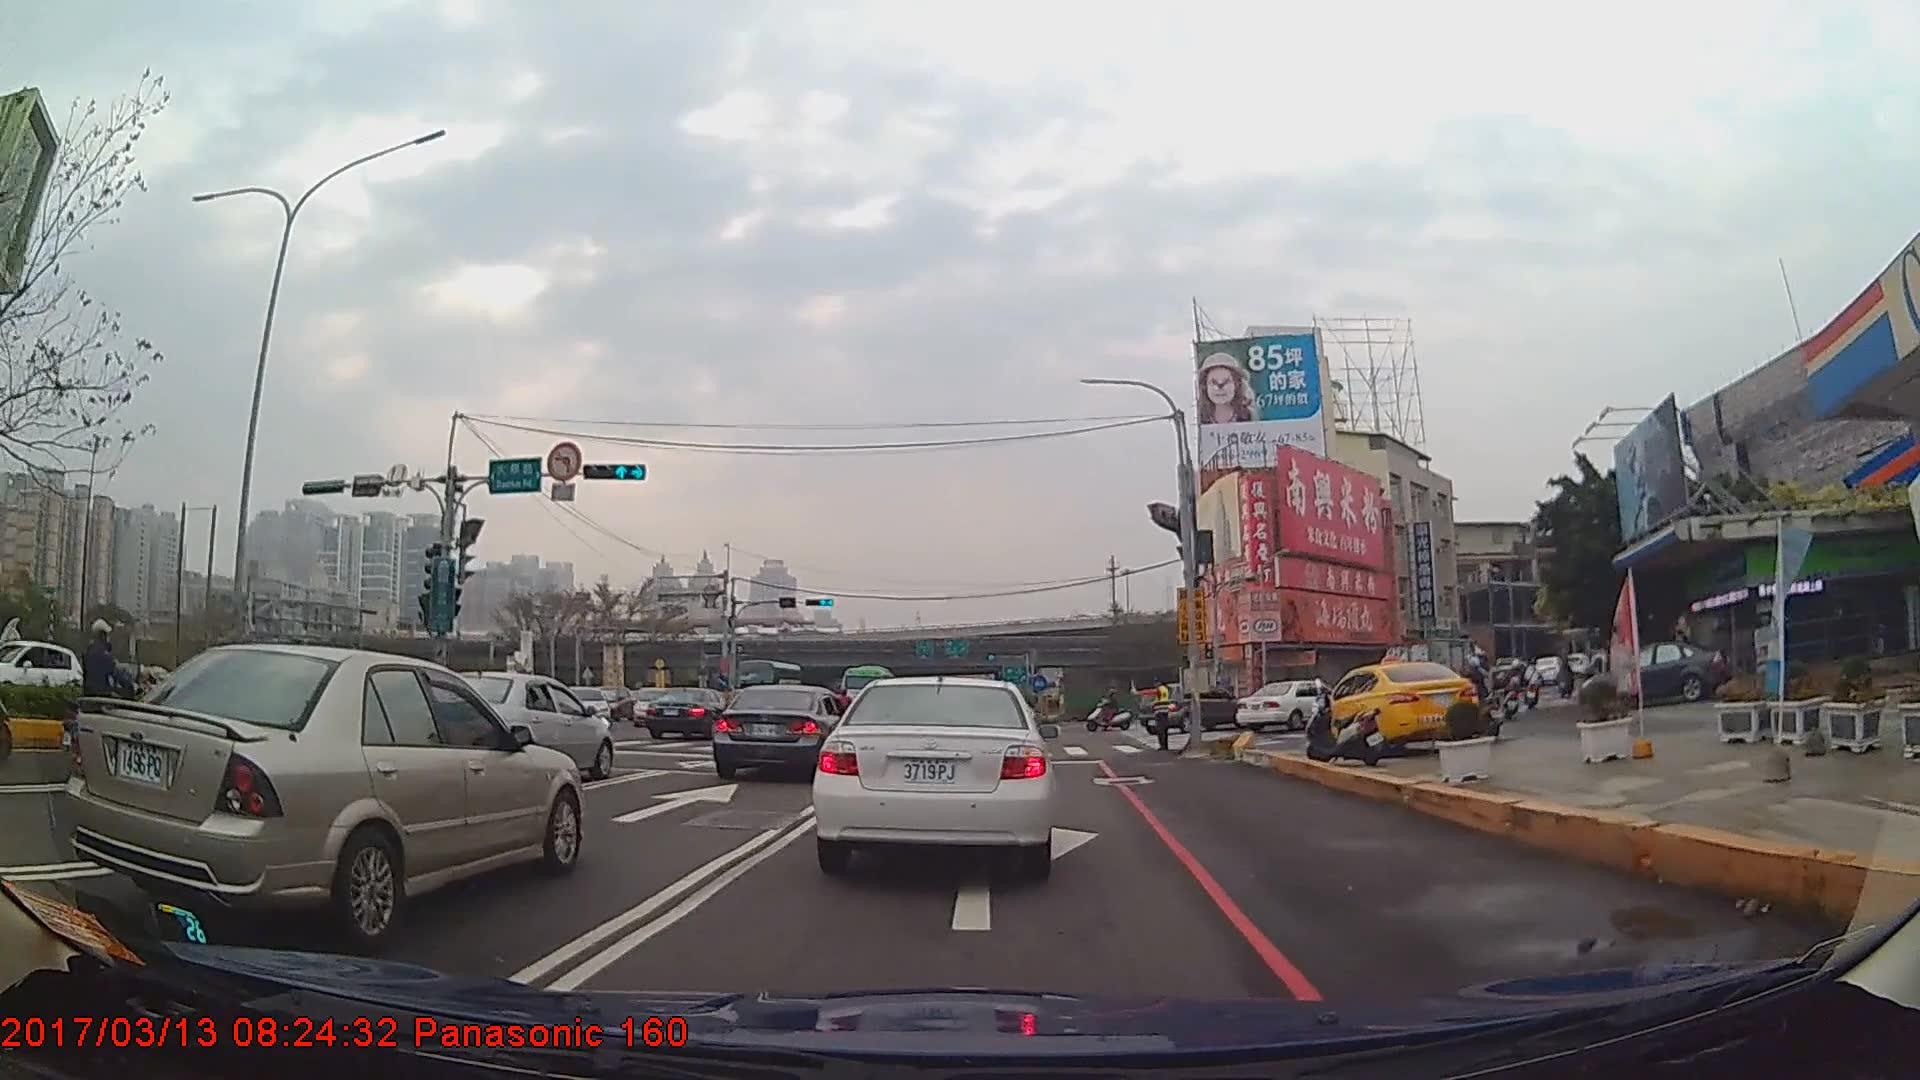pedestrian: (1128, 677, 1174, 754)
rider: (60, 616, 156, 776), (1459, 657, 1501, 740), (1088, 688, 1133, 733), (1499, 653, 1526, 721)
vehicle: (75, 634, 585, 932), (814, 670, 1052, 875), (416, 670, 615, 778), (1309, 659, 1481, 758), (711, 680, 854, 775), (1573, 639, 1727, 708), (1380, 635, 1494, 703), (0, 636, 83, 713), (1137, 679, 1251, 733), (1236, 677, 1343, 730), (646, 684, 739, 738), (837, 662, 895, 716)
